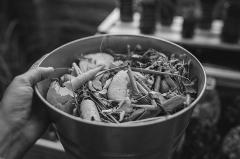organic: (48, 78, 78, 116), (110, 70, 130, 110), (82, 97, 106, 129)
